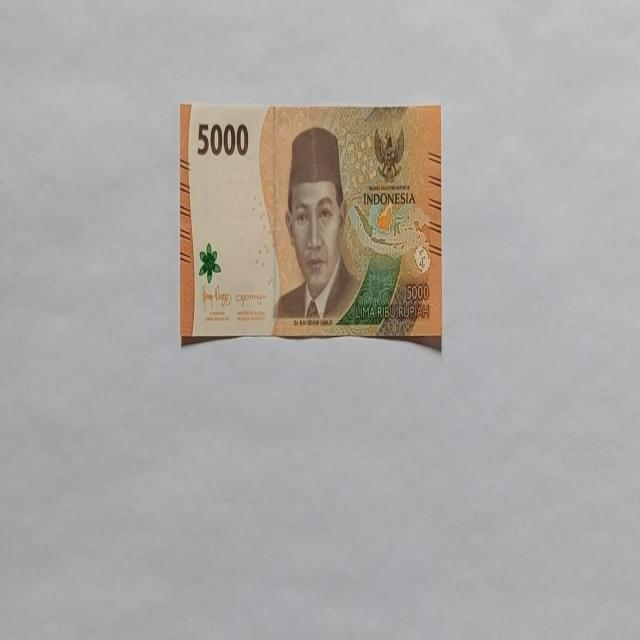lima ribu rupiah: (179, 100, 443, 348), (272, 125, 362, 323)
